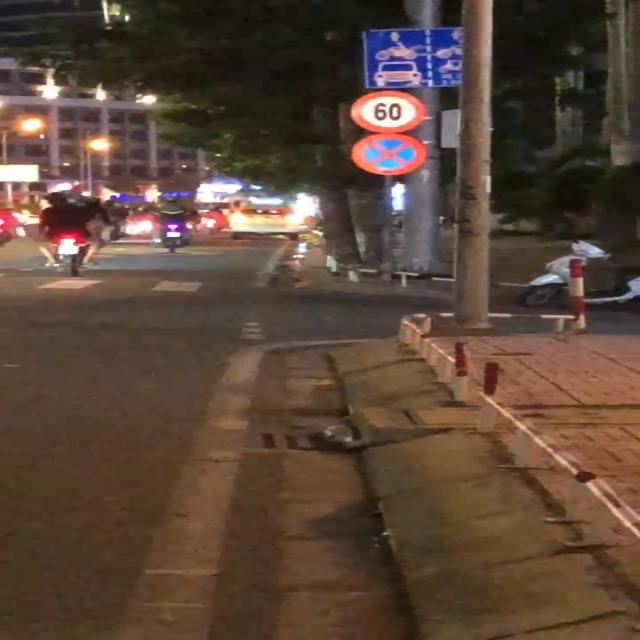Bien bao cam dung xe va do xe: (345, 132, 434, 180)
Bien bao toc do toi da cho phep: (345, 84, 433, 133)
